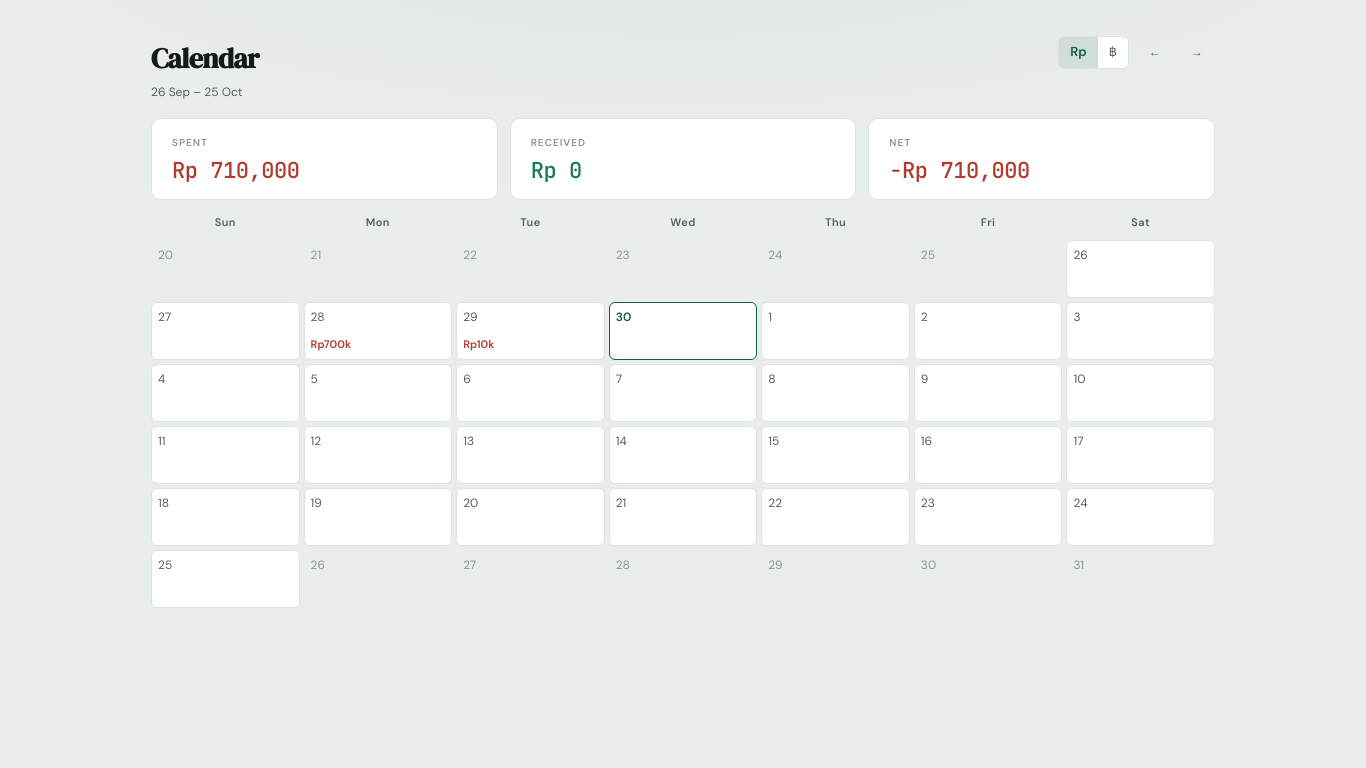
Test case: lists a day's transactions when its cell is tapped
Expected: the text "Rp700k" is shown, [311,337,351,351]
Click the button "28 Rp700k" at (378, 331), box [304,302,452,360]
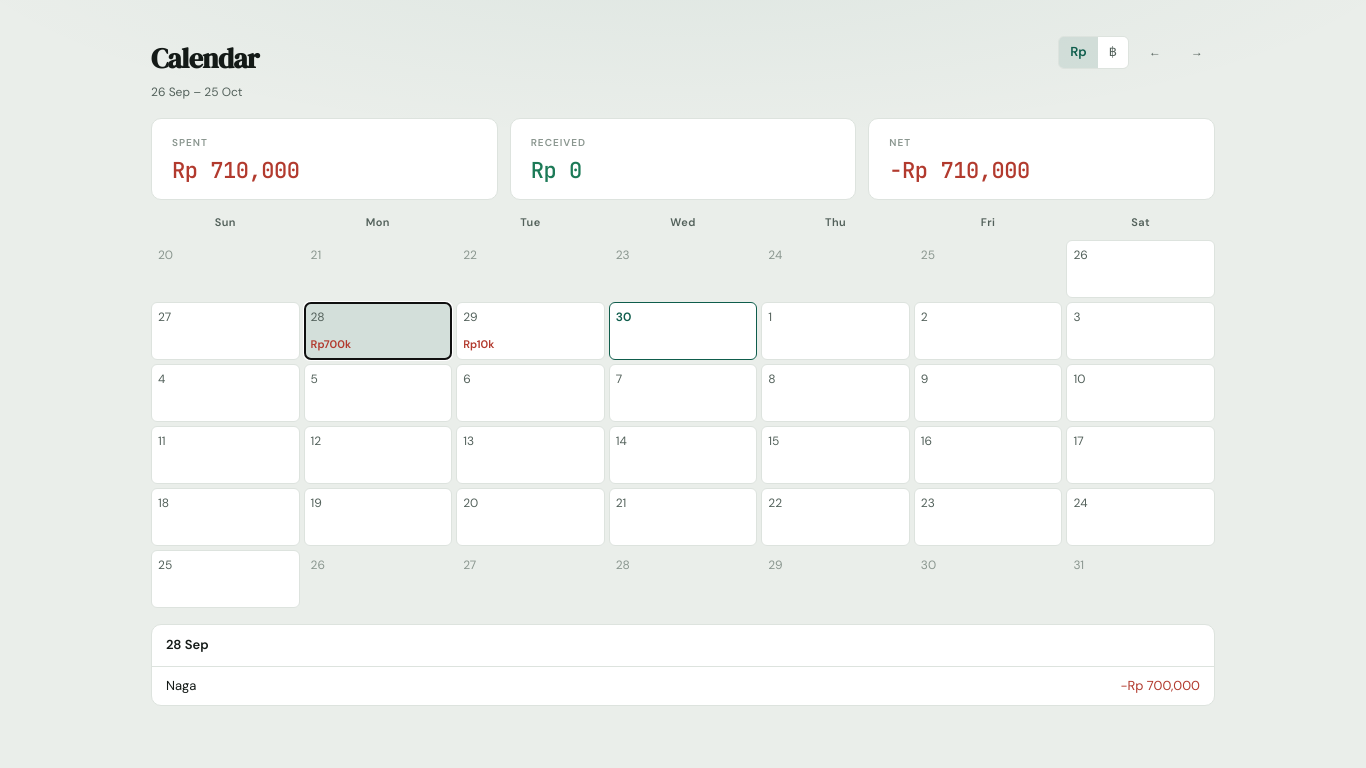
Result: the text "Naga" is shown at [166,676,196,696]
